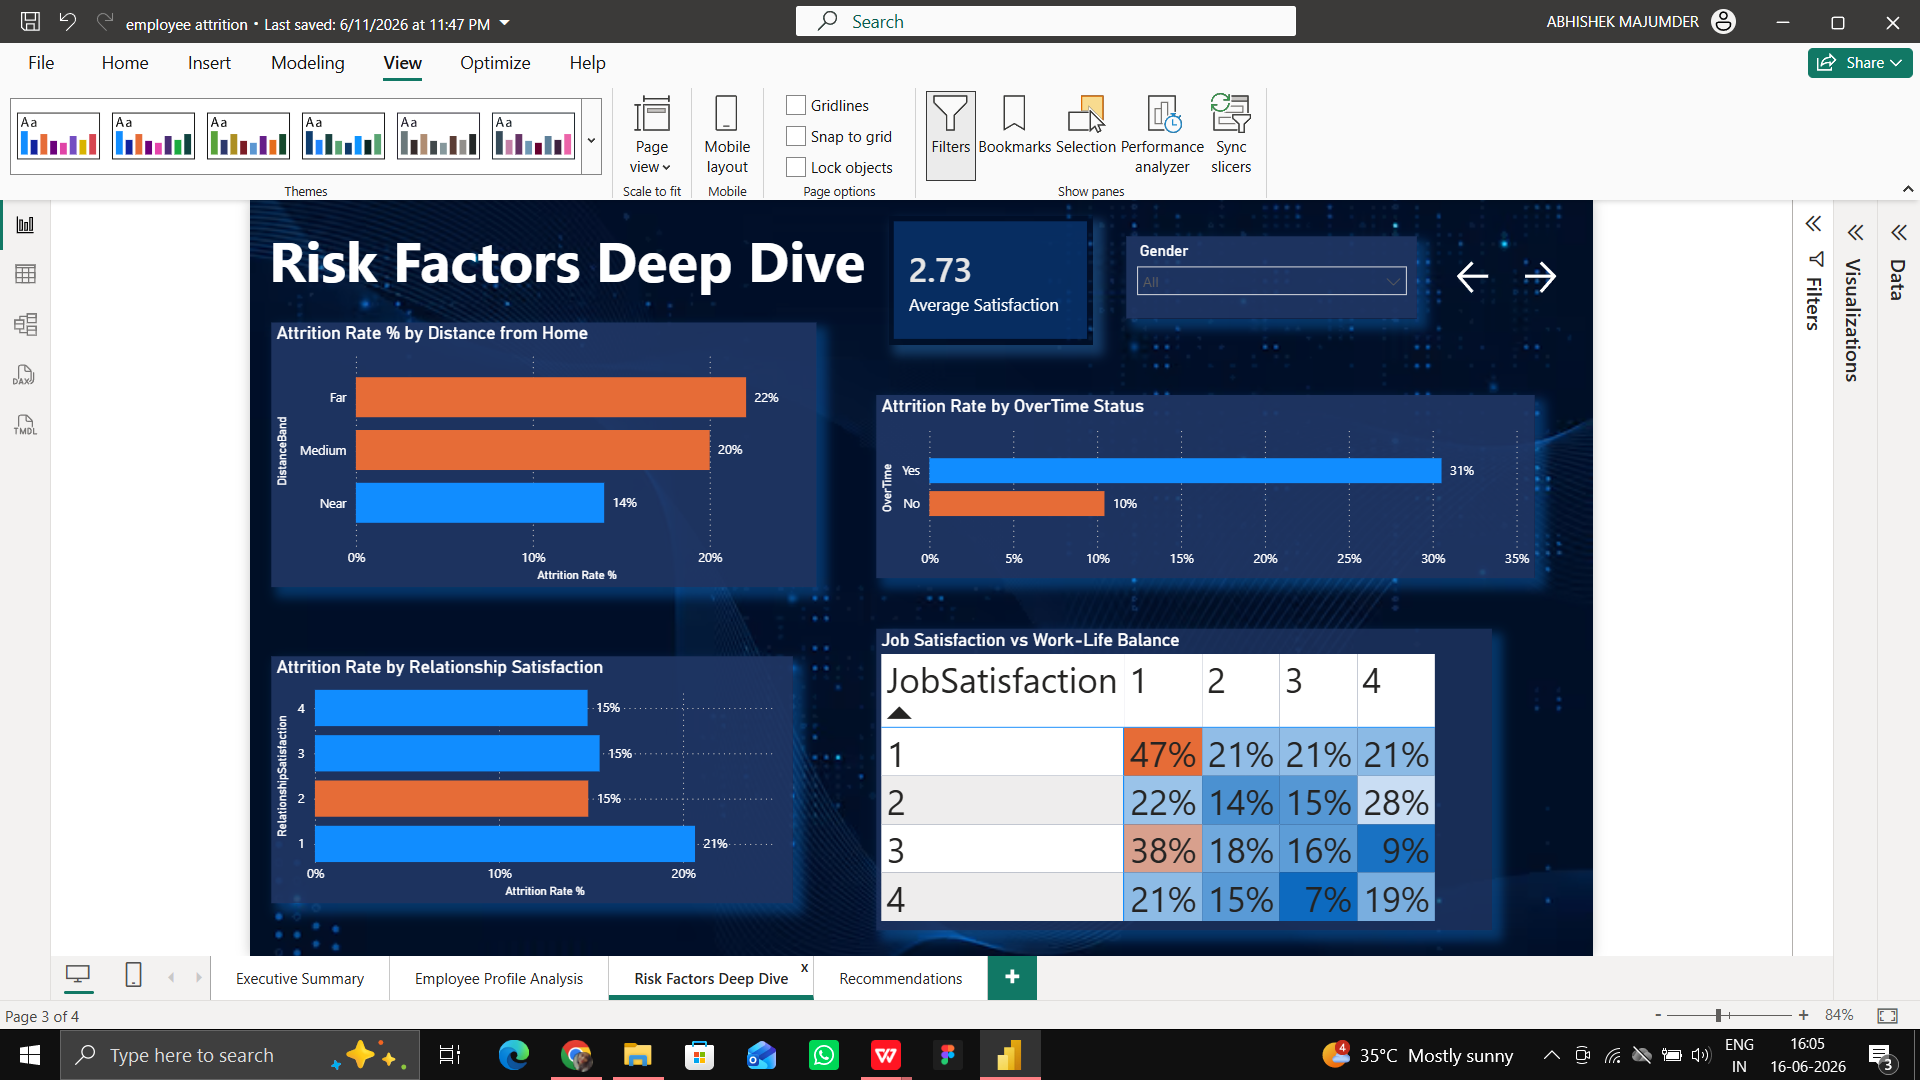

Layout of this report page (visuals, bound fields, positions):
{"tool":"powerbi","page":{"name":"Risk Factors Deep Dive","canvas":[1280,720],"ordinal":2},"visuals":[{"type":"textbox","box":[13,16,605,89],"z":0},{"type":"barChart","title":"Attrition Rate  by OverTime Status","fields":{"Category":["Employee.OverTime"],"Y":["Employee.Attrition Rate %"]},"box":[597,186,627,174],"z":1000},{"type":"pivotTable","title":"Job Satisfaction vs Work-Life Balance","fields":{"Rows":["Employee.JobSatisfaction"],"Columns":["Employee.WorkLifeBalance"],"Values":["Employee.Attrition Rate %"]},"box":[597,408,586,287],"z":2000},{"type":"cardVisual","fields":{"Data":["Employee.Average Satisfaction"]},"box":[608,16,194,122],"z":3000},{"type":"clusteredBarChart","title":"Attrition Rate % by Distance from Home","fields":{"Y":["Employee.Attrition Rate %"],"Category":["Employee.DistanceBand"]},"box":[20,117,519,252],"z":4000},{"type":"clusteredBarChart","title":"Attrition Rate by Relationship Satisfaction","fields":{"Category":["Employee.RelationshipSatisfaction"],"Y":["Employee.Attrition Rate %"]},"box":[20,434,497,235],"z":5000},{"type":"slicer","fields":{"Values":["Employee.Gender"]},"box":[835,34,277,78],"z":6000},{"type":"actionButton","box":[1208,53,49,40],"z":7000},{"type":"actionButton","box":[1145,53,51,40],"z":8000}]}

Visuals, with their boxes on the page's 1280x720 design canvas (x1, y1, x2, y2). These are canvas units, not pixel positions in the 1920x1080 screenshot, which may show the page scaled, cropped or inside an application window:
textbox: [13, 16, 618, 105]
"Attrition Rate  by OverTime Status" barChart: [597, 186, 1224, 360]
"Job Satisfaction vs Work-Life Balance" pivotTable: [597, 408, 1183, 695]
cardVisual - Employee.Average Satisfaction: [608, 16, 802, 138]
"Attrition Rate % by Distance from Home" clusteredBarChart: [20, 117, 539, 369]
"Attrition Rate by Relationship Satisfaction" clusteredBarChart: [20, 434, 517, 669]
slicer - Employee.Gender: [835, 34, 1112, 112]
actionButton: [1208, 53, 1257, 93]
actionButton: [1145, 53, 1196, 93]
